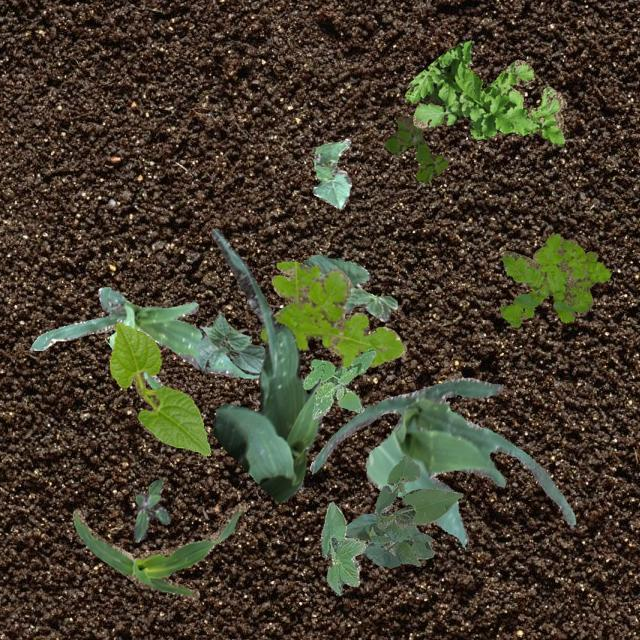crop: (308, 376, 574, 546), (210, 228, 322, 502), (30, 286, 258, 388), (71, 502, 248, 598), (109, 320, 210, 454), (344, 454, 462, 566), (299, 253, 396, 320), (196, 310, 264, 374), (320, 500, 366, 594), (312, 138, 350, 208)
weed: (404, 40, 566, 146), (260, 260, 406, 366), (500, 232, 610, 326), (302, 348, 374, 418), (384, 115, 448, 182), (132, 478, 170, 540)
